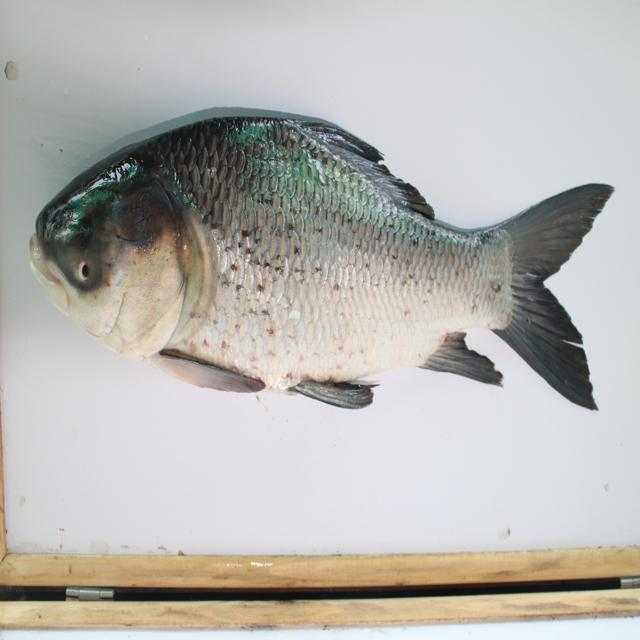Catla: (23, 104, 618, 424)
